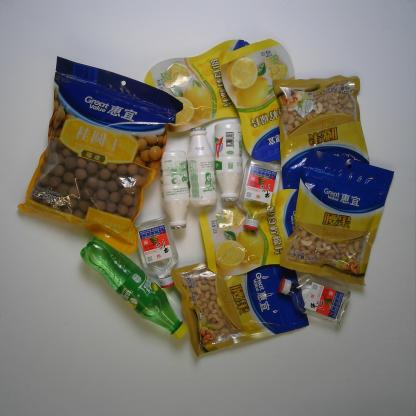Alcohol: (278, 274, 352, 326), (237, 158, 283, 232), (134, 216, 179, 289)
Dried Food: (17, 57, 185, 255)
Dried Fruit: (278, 148, 396, 288), (170, 250, 310, 358), (272, 74, 370, 194), (142, 38, 259, 134), (197, 188, 308, 277), (220, 38, 298, 162)
Drink: (80, 235, 189, 341)
Milk: (186, 125, 219, 209), (157, 150, 191, 230), (212, 122, 244, 204)
